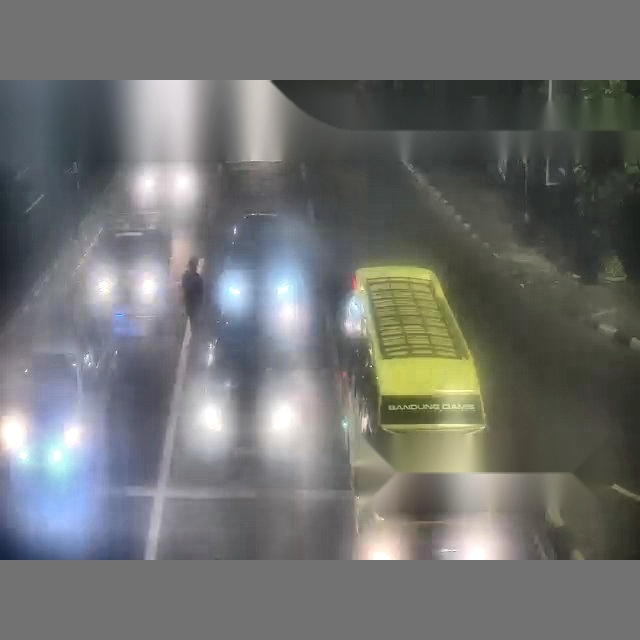Mobil: (341, 264, 489, 559)
